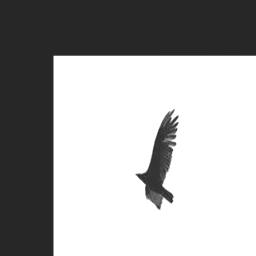Crow: (134, 107, 179, 209)
